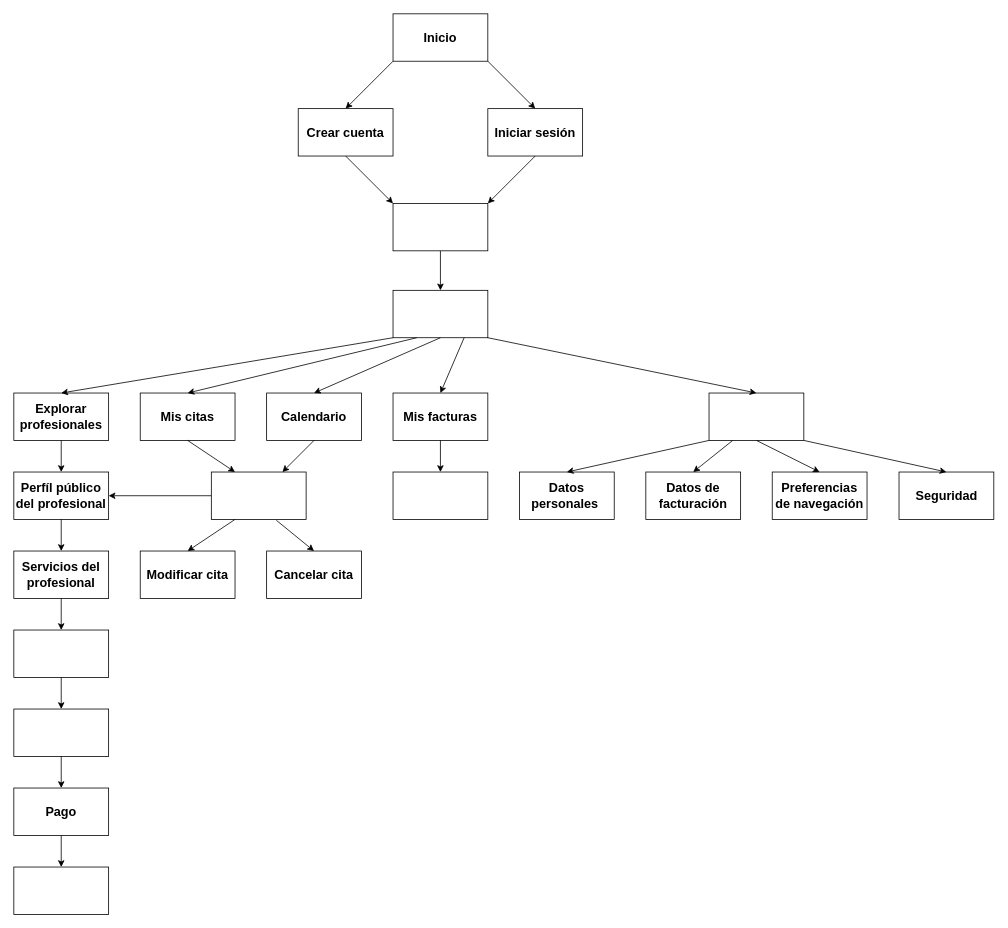
This 1008x928 diagram has some shape labels left out. Here are the shapes that lost their labels. From the top down, the centre of each, then its label:
At (x=440, y=227): "Área autenticada".
At (x=440, y=314): "Dashboard cliente".
At (x=756, y=416): "Configuración".
At (x=258, y=495): "Detalle de cita".
At (x=440, y=495): "Detalle de factura".
At (x=61, y=653): "Seleccionar fecha y hora".
At (x=61, y=732): "Formulario de reserva".
At (x=61, y=890): "Confirmación de reserva".
